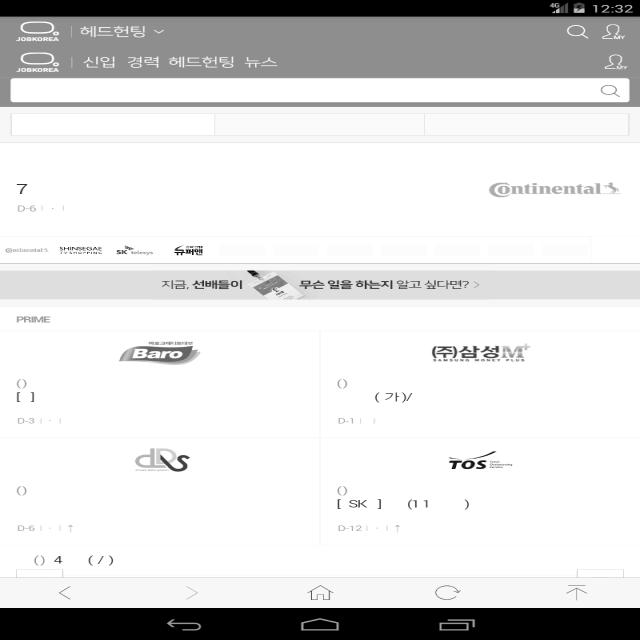EditText: (3, 74, 634, 106)
ImageButton: (556, 580, 598, 604), (429, 581, 468, 603), (16, 48, 63, 66), (304, 582, 341, 604), (13, 22, 63, 38), (602, 49, 632, 72), (172, 583, 205, 603), (600, 21, 628, 42), (565, 23, 593, 42), (52, 584, 80, 600)
ImageView: (118, 342, 207, 368), (121, 445, 199, 473), (443, 451, 512, 475), (118, 241, 160, 260), (168, 240, 210, 259)
TextView: (86, 51, 284, 71), (314, 272, 482, 294), (430, 342, 534, 359), (76, 20, 154, 40), (515, 180, 605, 197), (160, 273, 234, 293), (367, 386, 416, 406), (12, 177, 35, 199)
